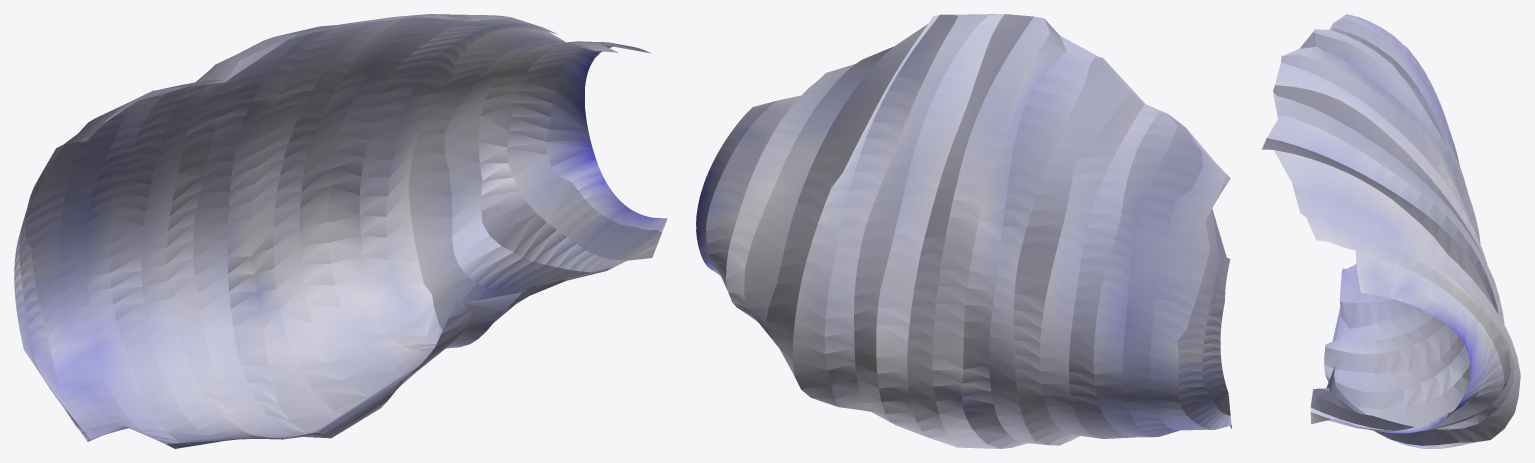
File: Morph_blue_MonoD_P19_P36_.glb
3 views of the same model, side by side, from view 1: azimuth 30°, elevation 25°; view 2: azimuth 150°, elevation 25°; view 3: azimuth 270°, elevation 25° (orthographic). The views are drawn at different scales.
Parts seen in each view (by area): view 1: p36; view 2: p36; view 3: p36.
Boxes of the visible parts, x1,y1,x2,y2 form: p36: [14, 14, 667, 448]; p36: [696, 14, 1231, 448]; p36: [1262, 14, 1520, 448].
Size of the model in its own units: 2 by 1.45 by 0.9228.
